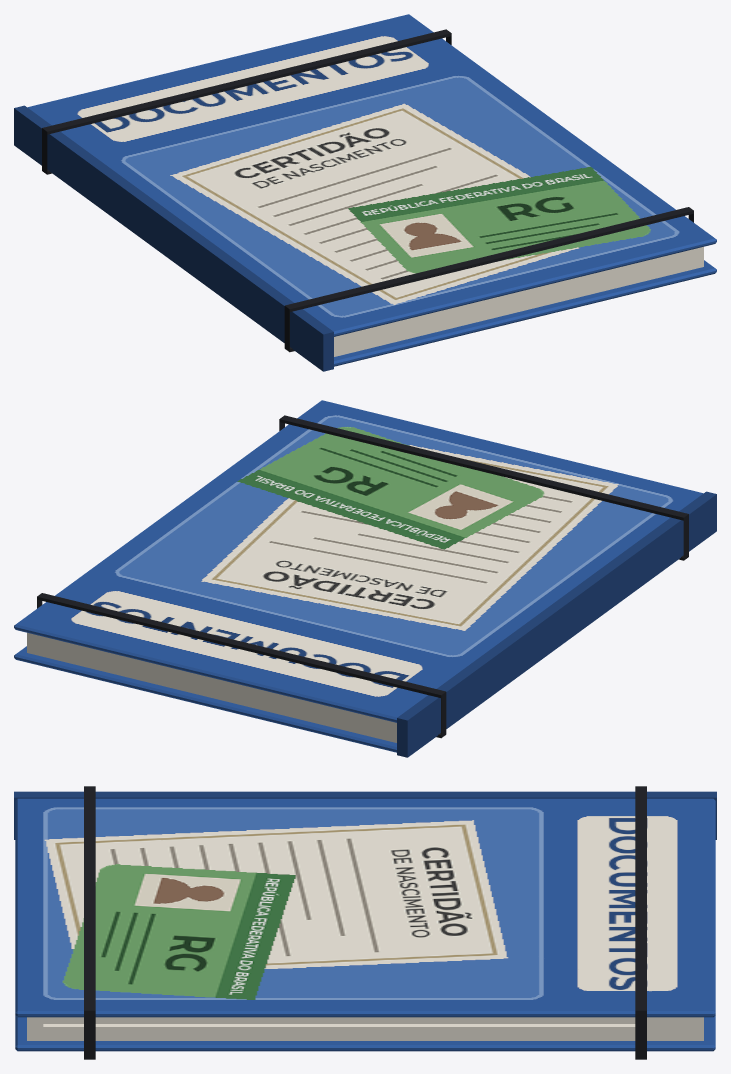
Rendered from Item_Documentos.fbx.
3 renders of one model, top to bottom at view 1: azimuth 30°, elevation 25°; view 2: azimuth 150°, elevation 25°; view 3: azimuth 270°, elevation 25°, orthographic. The views are drawn at different scales.
Parts seen in each view (by area): view 1: Item_Documentos; view 2: Item_Documentos; view 3: Item_Documentos.
Part boxes in pixels (left/top/right/bottom): Item_Documentos: left=14, top=14, right=716, bottom=371; Item_Documentos: left=14, top=400, right=716, bottom=757; Item_Documentos: left=14, top=786, right=716, bottom=1059.
Bounding box in the file's own units: 0.2272 × 0.0231 × 0.301.
Materials: 1 (1 with a texture image).
